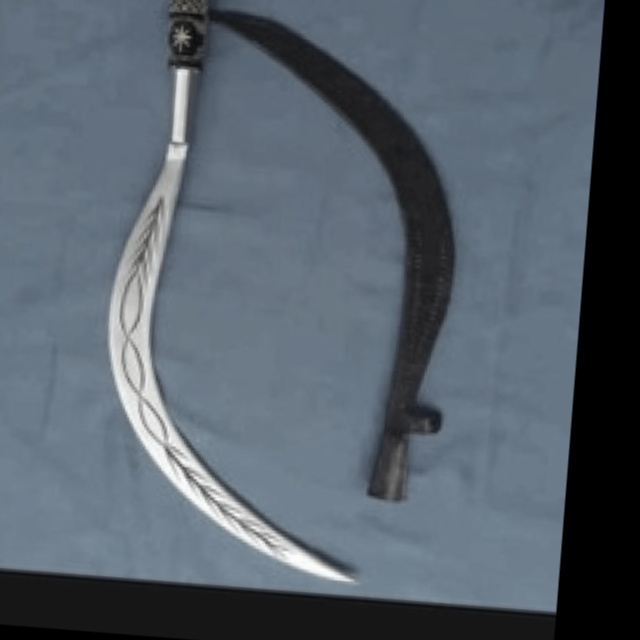Sharp-Object: (84, 0, 405, 592)
